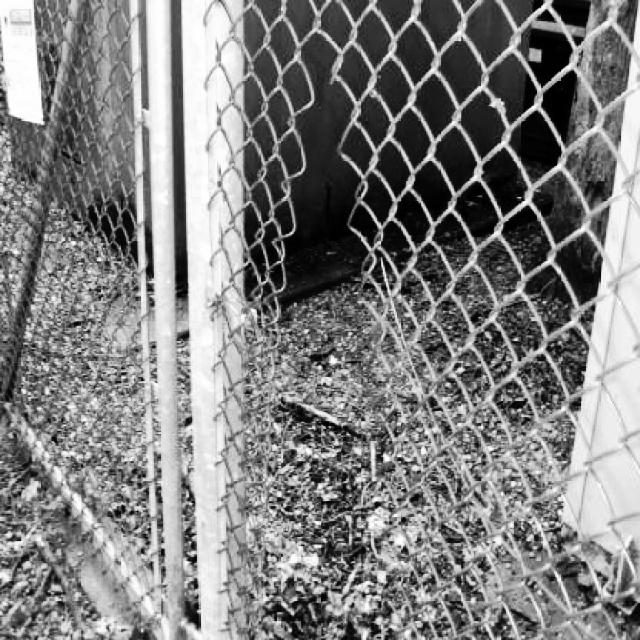anomaly-fence: (195, 19, 453, 640)
